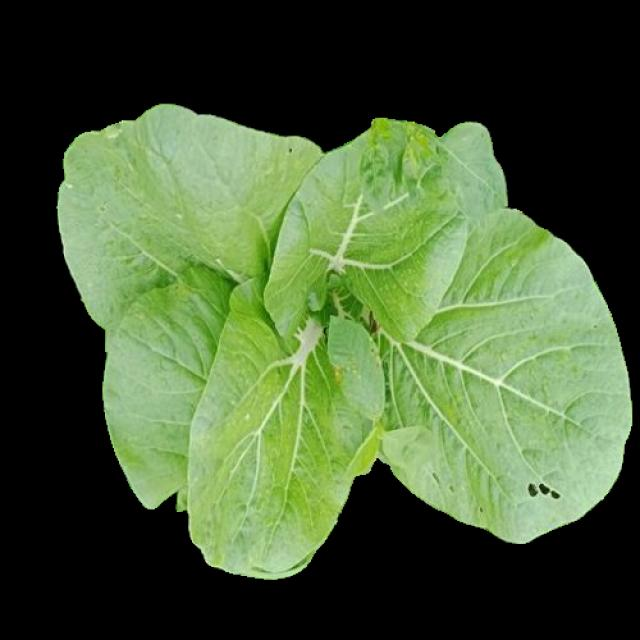mature: (38, 110, 612, 575)
unhealthy: (379, 215, 609, 538), (58, 114, 322, 321), (191, 297, 371, 570), (272, 119, 464, 339)
